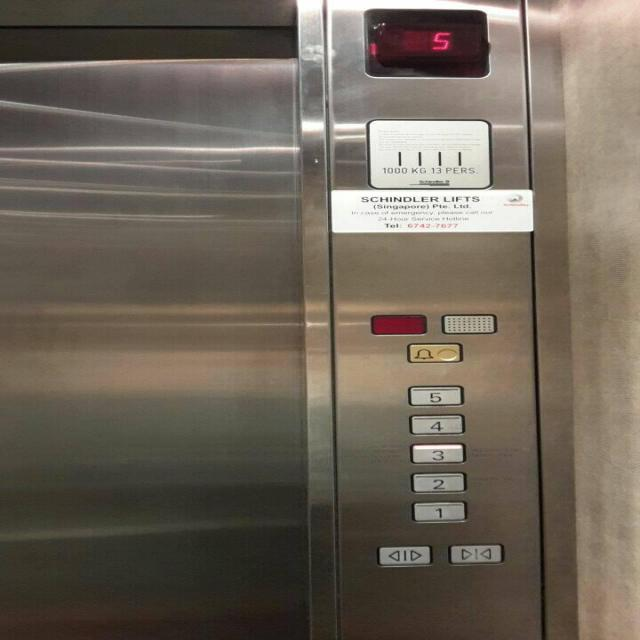1: (408, 499, 469, 523)
2: (408, 470, 468, 494)
3: (407, 440, 467, 464)
4: (406, 412, 466, 436)
5: (404, 383, 465, 407)
alarm: (404, 341, 463, 363)
close: (444, 541, 506, 565)
empty: (367, 312, 428, 335)
led: (362, 8, 491, 78)
open: (374, 543, 434, 567)
speaker: (439, 312, 498, 334)
